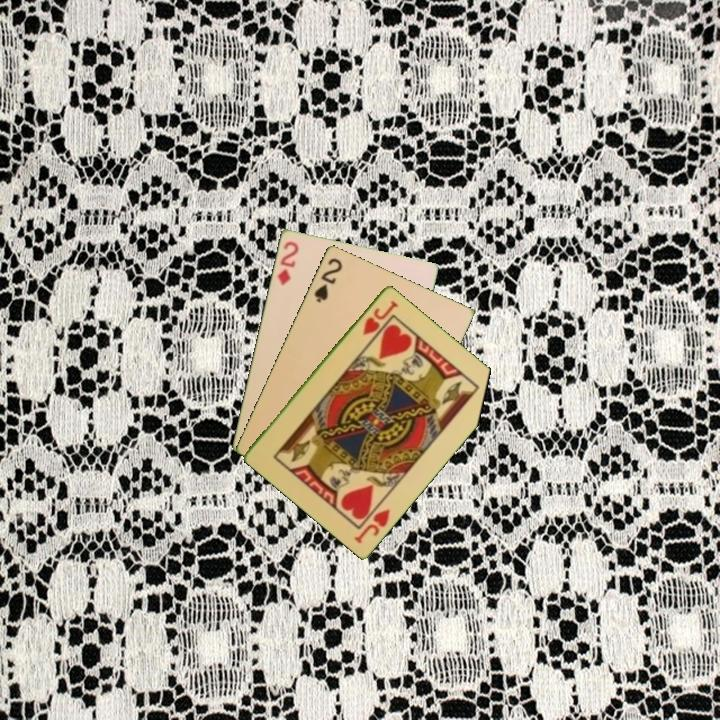2d: (274, 237, 301, 288)
2s: (310, 254, 345, 305)
Jh: (359, 296, 401, 338), (350, 505, 393, 546)
